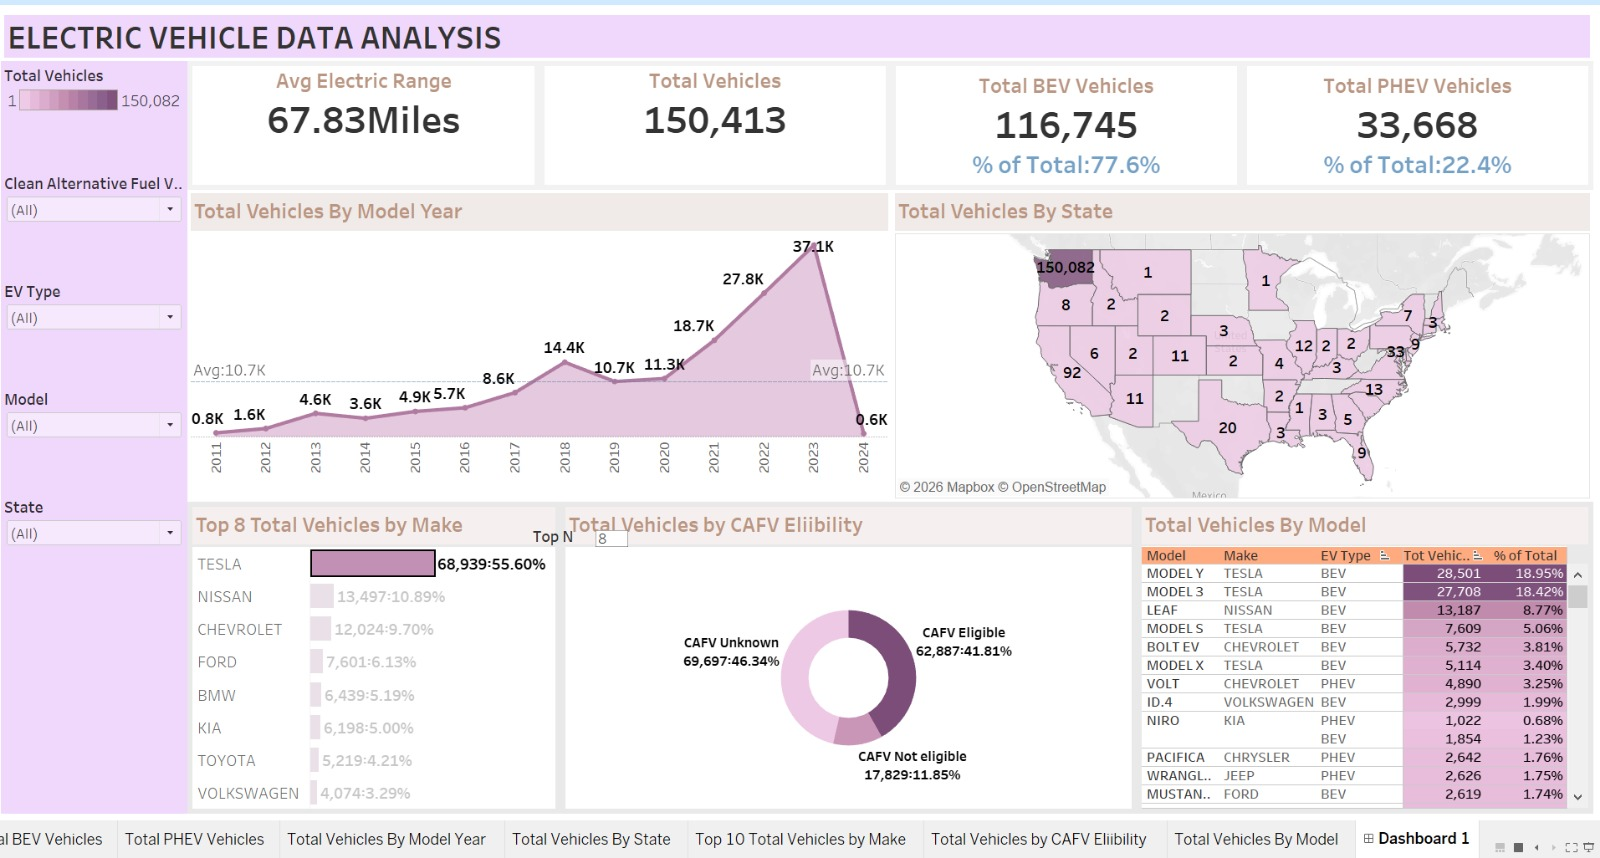

What the dashboard file says about the page in this screenshot:
{"tool":"tableau","page":{"name":"Dashboard 1","canvas":[1000,1000],"units":"permille","ordinal":0},"visuals":[{"type":"title","box":[7.9,19.1,984.3,58.7]},{"type":"legend","title":"Total Vehicles By State","param":"[federated.04u9y5d0gsn2uk17p6tlm0da8m13].[usr:Calculation_1064256949235843072:qk","box":[7.9,78.8,115.2,128.9]},{"type":"worksheet","title":"Avg Electric Range","mark":"Automatic","box":[123,78.8,217.5,367.5]},{"type":"worksheet","title":"Total Vehicles","mark":"Automatic","box":[340.6,78.8,217.5,367.5]},{"type":"worksheet","title":"Total BEV Vehicles","mark":"Automatic","box":[558.1,78.8,217.5,367.5]},{"type":"worksheet","title":"Total PHEV Vehicles","mark":"Automatic","box":[775.6,78.8,216.5,367.5]},{"type":"filter","title":"Total Vehicles By Model Year","param":"[federated.04u9y5d0gsn2uk17p6tlm0da8m13].[none:Clean Alternative Fuel Vehicle (C","box":[7.9,207.6,115.2,128.9]},{"type":"filter","title":"Total Vehicles By State","param":"[federated.04u9y5d0gsn2uk17p6tlm0da8m13].[none:Electric Vehicle Type:nk]","box":[7.9,336.5,115.2,128.9]},{"type":"worksheet","title":"Total Vehicles By Model Year","mark":"Area","rows":["Calculation_1064256949235843072","Calculation_1064256949235843072"],"cols":["Model Year"],"box":[123.2,445.4,435.1,267.8]},{"type":"worksheet","title":"Total Vehicles By State","mark":"Multipolygon","box":[558.2,445.4,433.9,267.8]},{"type":"filter","title":"Total Vehicles By State","param":"[federated.04u9y5d0gsn2uk17p6tlm0da8m13].[none:Model:nk]","box":[7.9,465.4,115.2,128.9]},{"type":"filter","title":"Total Vehicles By State","param":"[federated.04u9y5d0gsn2uk17p6tlm0da8m13].[none:State:nk]","box":[7.9,594.3,115.2,128.9]},{"type":"parameter","param":"[Parameters].[Parameter 1]","box":[335.2,641.2,60.8,49.2]},{"type":"worksheet","title":"Top 10 Total Vehicles by Make","mark":"Automatic","rows":["Make"],"cols":["Calculation_1064256949235843072"],"box":[123.2,713.1,418.7,267.8]},{"type":"worksheet","title":"Total Vehicles by CAFV Eliibility","mark":"Pie","rows":["Calculation_1064256949284442119","Calculation_1064256949284442119"],"box":[541.9,713.1,9.8,267.8]},{"type":"worksheet","title":"Total Vehicles By Model","mark":"Square","rows":["Model","Make","Electric Vehicle Type"],"box":[551.7,713.1,440.4,267.8]},{"type":"blank","box":[7.9,723.1,115.2,128.9]},{"type":"blank","box":[7.9,852,115.2,128.9]}]}

Visuals, with their boxes on the dashboard's canvas, which has no fixed pixel size, in thousandths of its width and height (x1, y1, x2, y2). These are canvas units, not pixel positions in the 1600x858 screenshot, which may show the page scaled, cropped or inside an application window:
title: box=[8, 19, 992, 78]
"Total Vehicles By State" legend: box=[8, 79, 123, 208]
"Avg Electric Range" worksheet: box=[123, 79, 340, 446]
"Total Vehicles" worksheet: box=[341, 79, 558, 446]
"Total BEV Vehicles" worksheet: box=[558, 79, 776, 446]
"Total PHEV Vehicles" worksheet: box=[776, 79, 992, 446]
"Total Vehicles By Model Year" filter: box=[8, 208, 123, 336]
"Total Vehicles By State" filter: box=[8, 336, 123, 465]
"Total Vehicles By Model Year" worksheet (Area marks): box=[123, 445, 558, 713]
"Total Vehicles By State" worksheet (Multipolygon marks): box=[558, 445, 992, 713]
"Total Vehicles By State" filter: box=[8, 465, 123, 594]
"Total Vehicles By State" filter: box=[8, 594, 123, 723]
parameter: box=[335, 641, 396, 690]
"Top 10 Total Vehicles by Make" worksheet: box=[123, 713, 542, 981]
"Total Vehicles by CAFV Eliibility" worksheet (Pie marks): box=[542, 713, 552, 981]
"Total Vehicles By Model" worksheet (Square marks): box=[552, 713, 992, 981]
blank: box=[8, 723, 123, 852]
blank: box=[8, 852, 123, 981]
